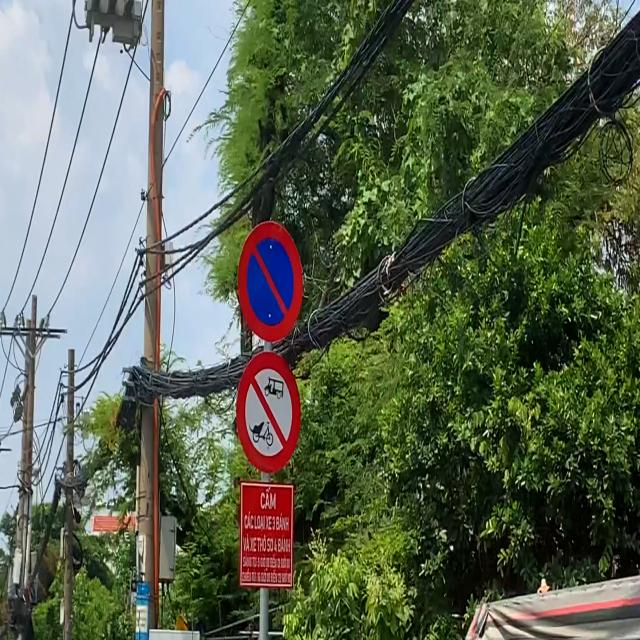Cam do: (236, 218, 304, 342)
